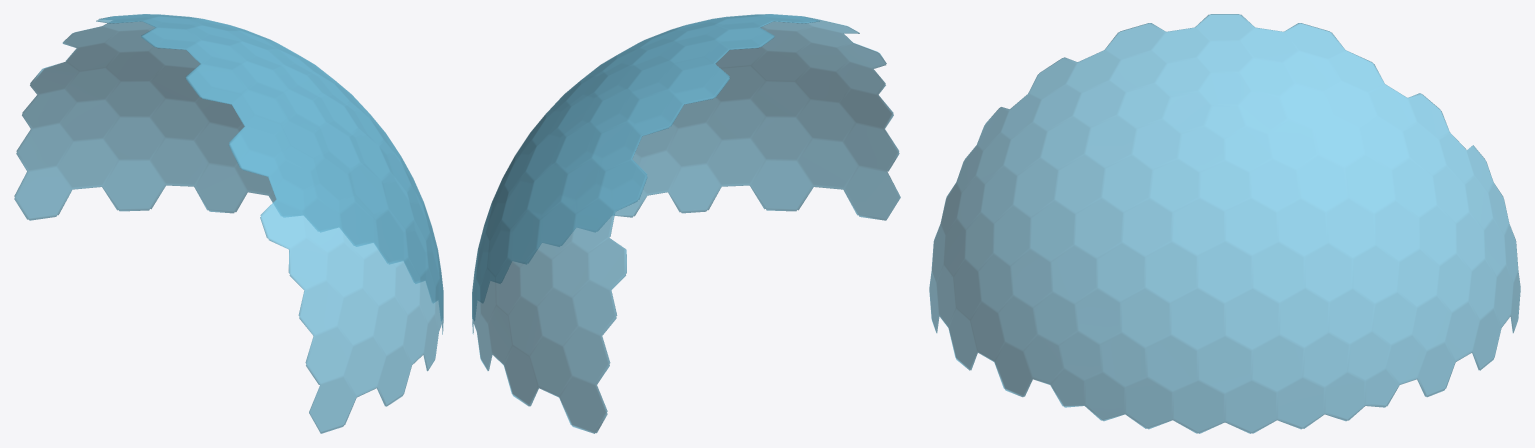
File: shield.fbx
3 renders of one model, left to right at view 1: azimuth 30°, elevation 25°; view 2: azimuth 150°, elevation 25°; view 3: azimuth 270°, elevation 25°, orthographic.
Parts seen in each view (by area): view 1: Sphere_6; view 2: Sphere_6; view 3: Sphere_6.
Boxes of the visible parts, left/top/right/bottom form: Sphere_6: left=14, top=14, right=443, bottom=433; Sphere_6: left=472, top=14, right=900, bottom=433; Sphere_6: left=929, top=14, right=1520, bottom=433.
Bounding box in the file's own units: 666 × 731 × 1326.
